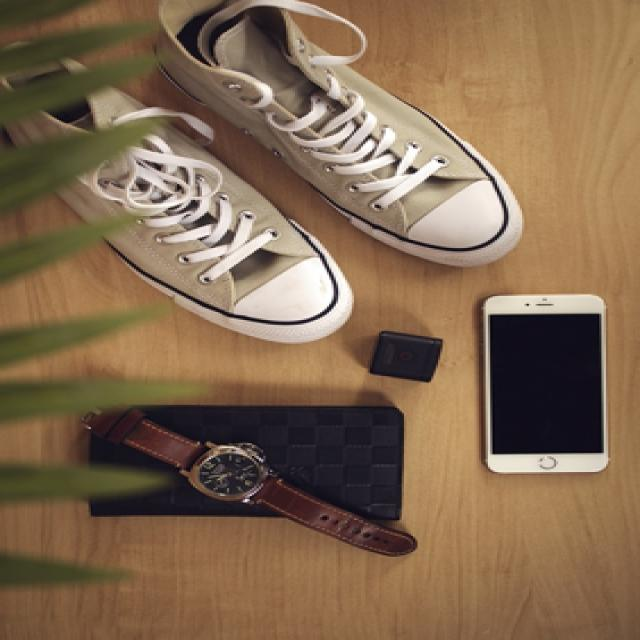cellphone: (479, 292, 608, 473)
